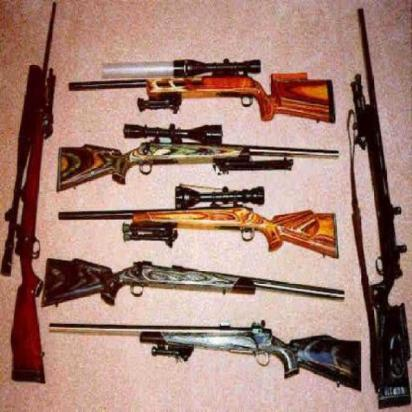Gun: (54, 183, 346, 266)
